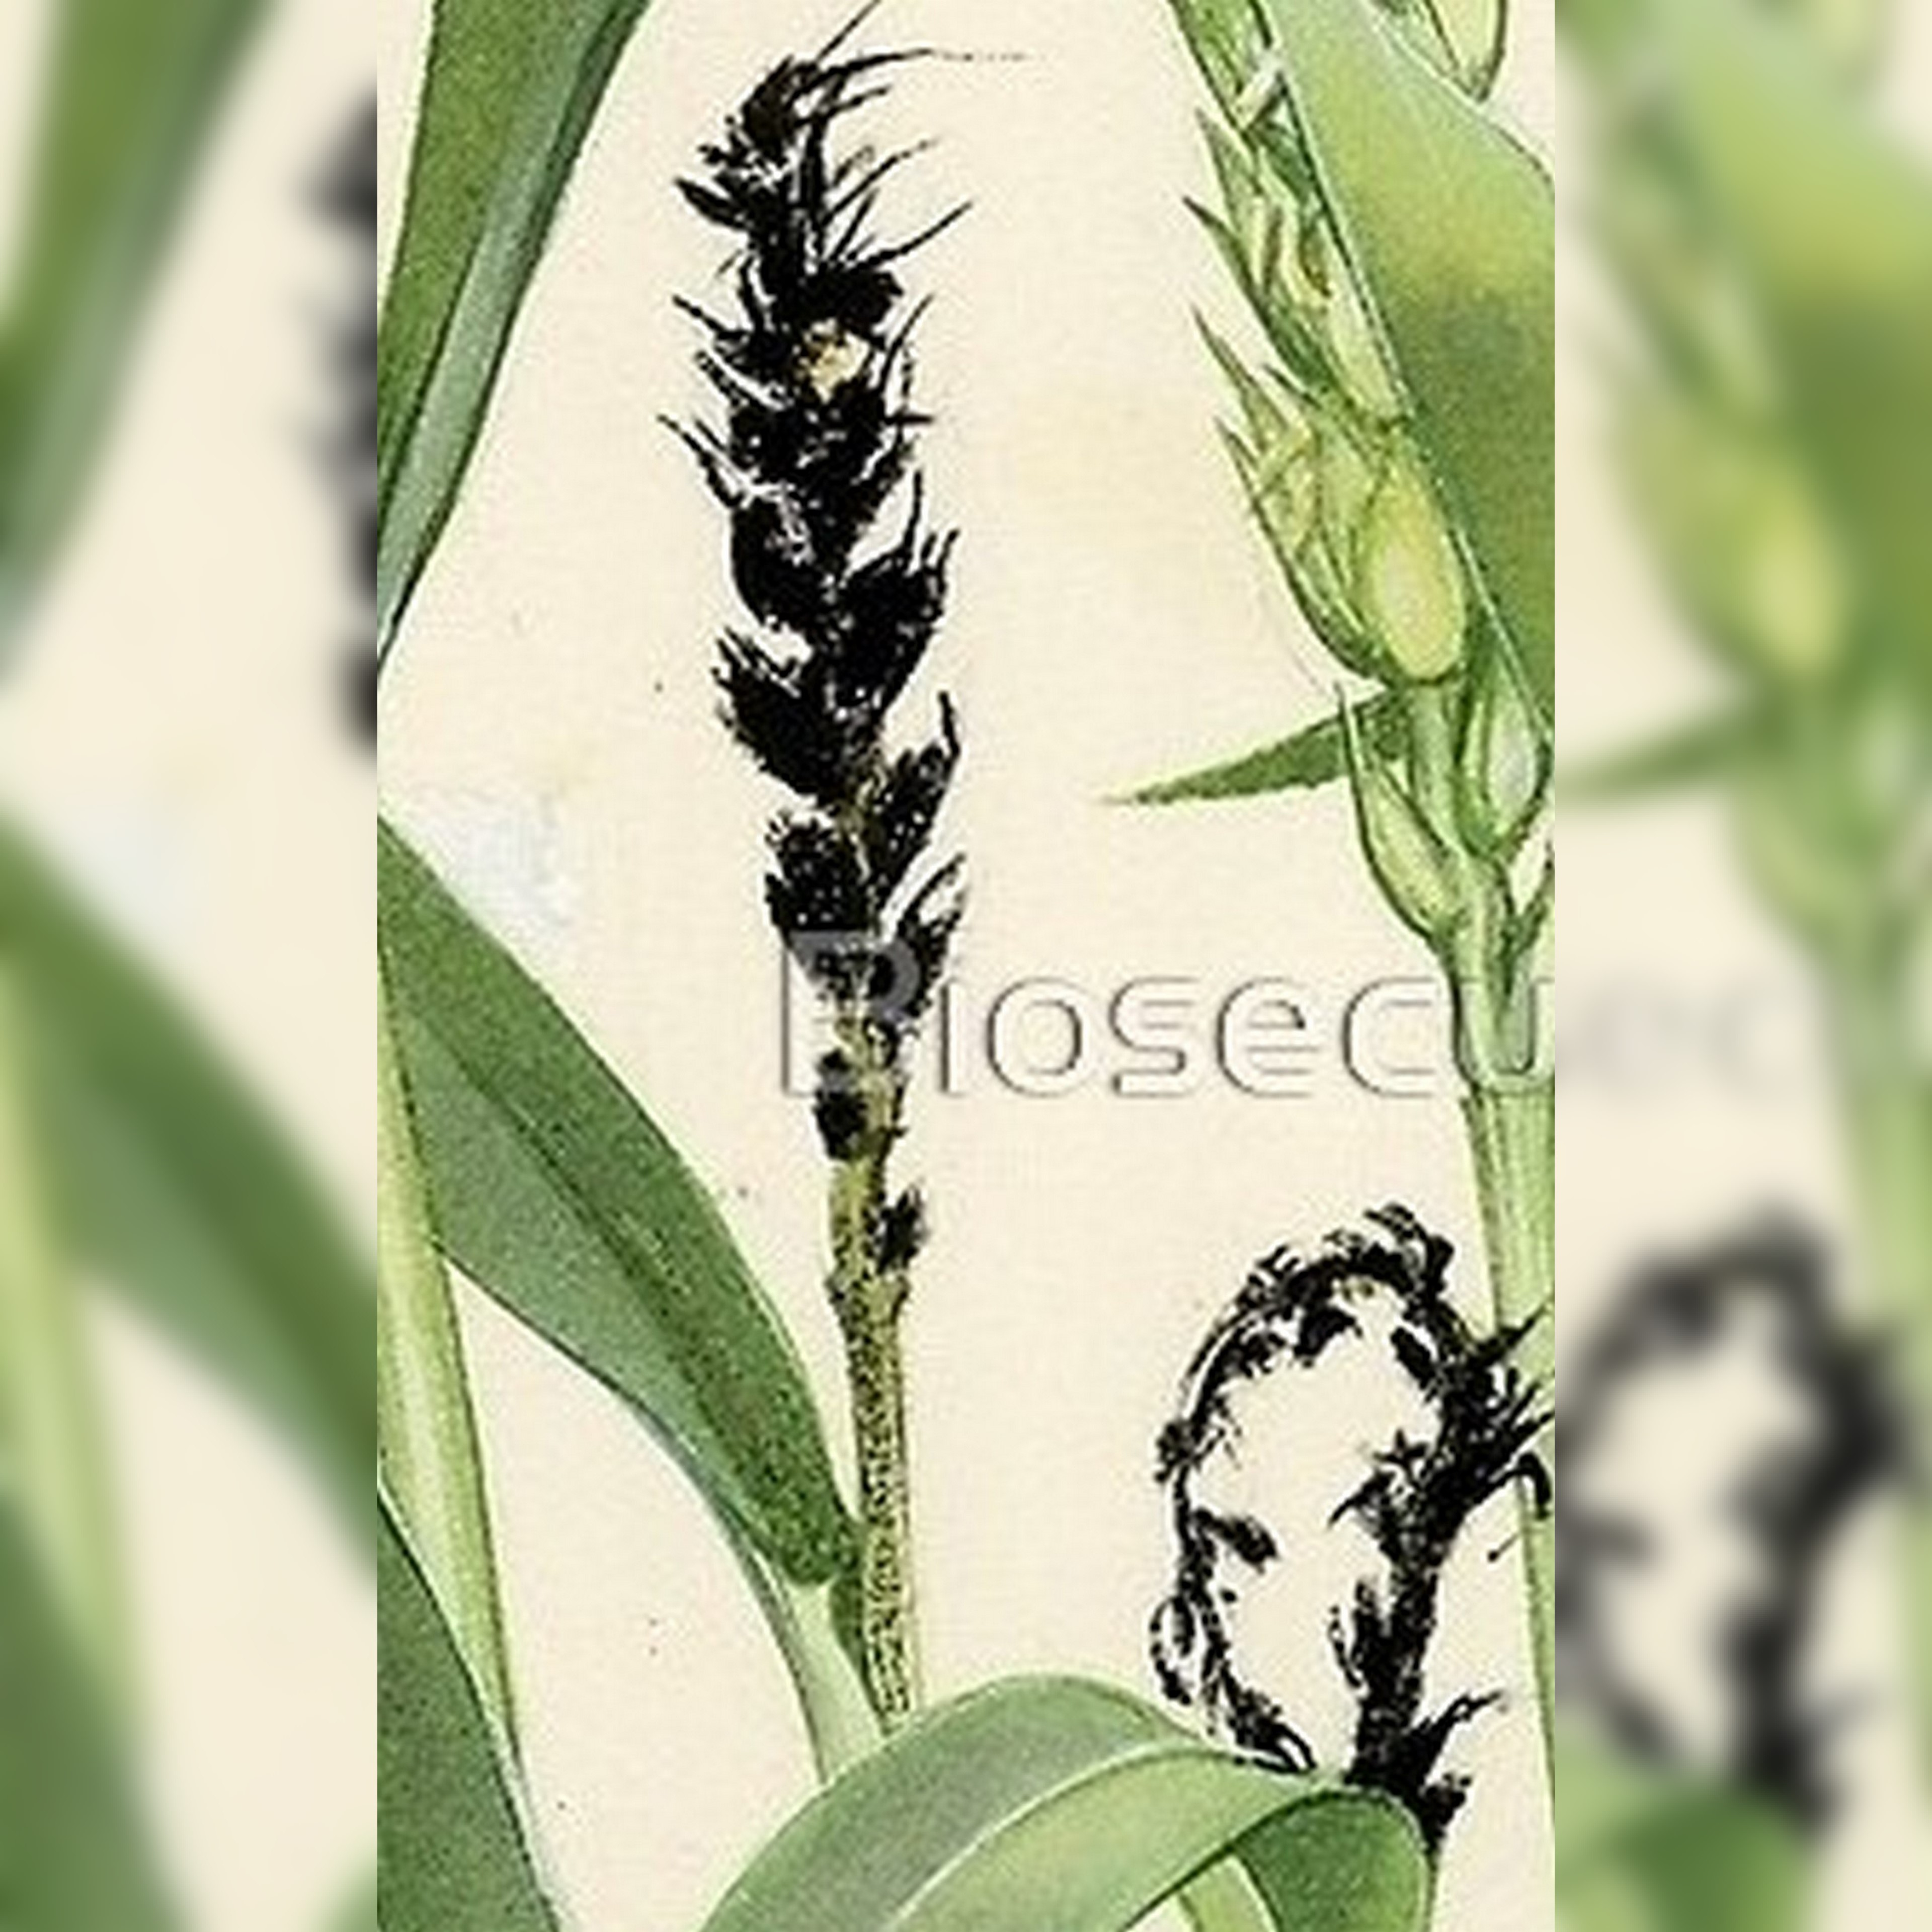Wheat Loose Smut: (621, 58, 1007, 1039)
